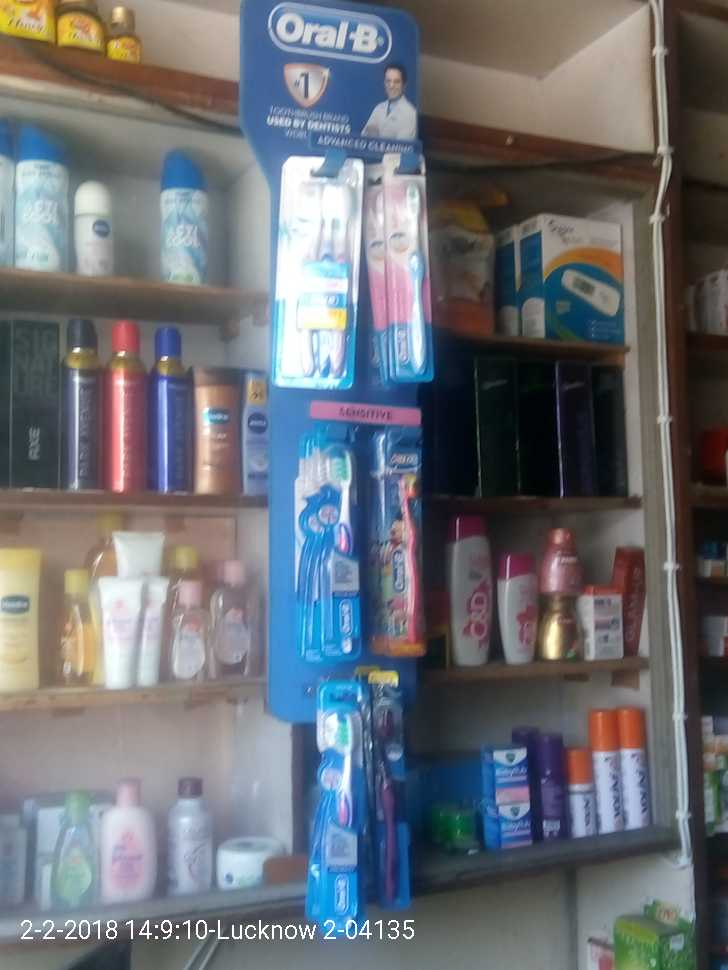oralb: (272, 148, 362, 400), (372, 146, 441, 393), (370, 434, 437, 667), (299, 432, 366, 665), (302, 694, 364, 919), (362, 691, 424, 916)
